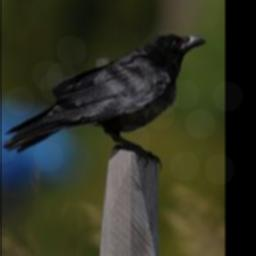Crow: (1, 31, 208, 170)
